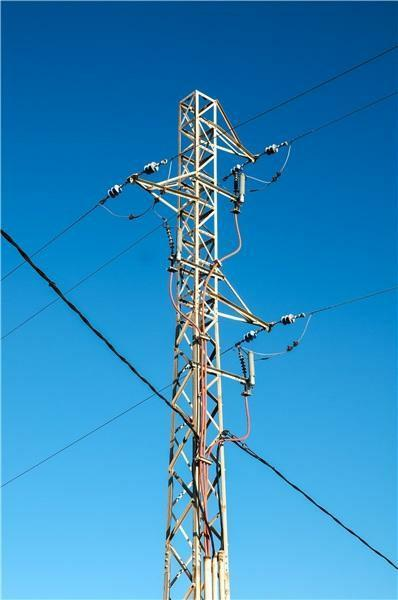power_tower: (102, 80, 305, 600)
